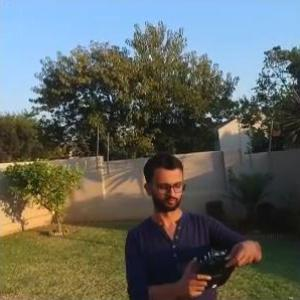follow: (119, 146, 267, 299)
